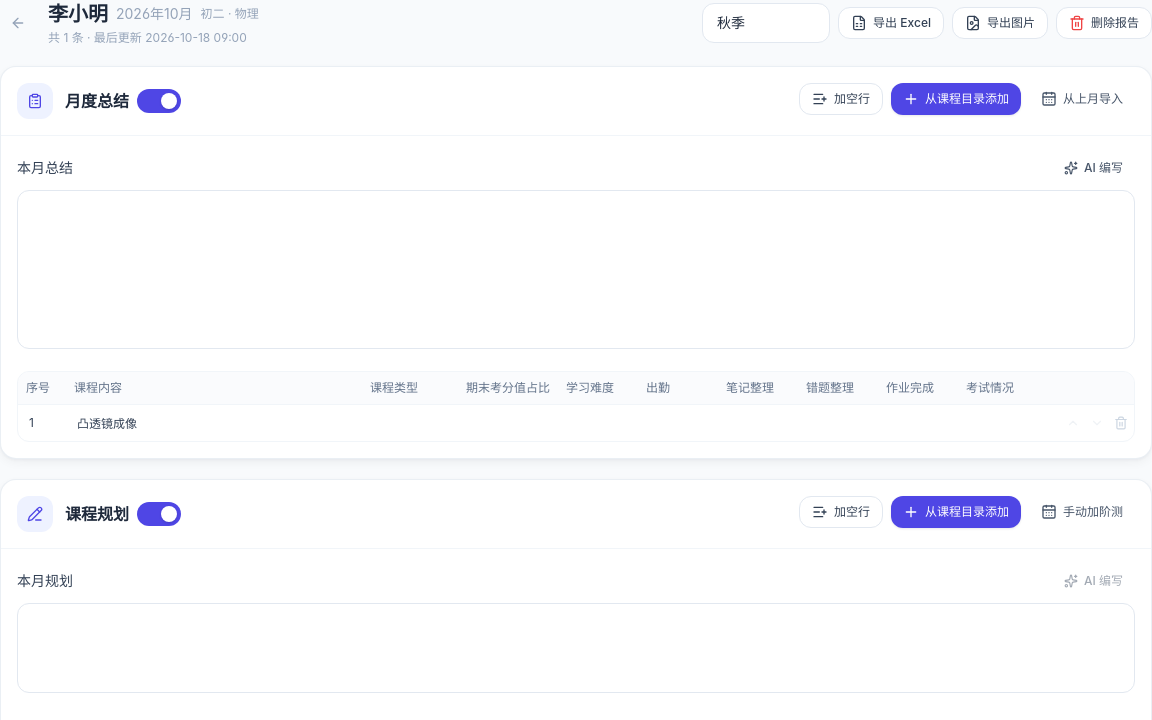
Test: 月度报告编辑器 › 关闭总结面板会提交 summaryEnabled=false，并隐藏表格
This screenshot has width=1152, height=720.
Expected: the field showing "凸透镜成像" is shown, [68,406,360,438]
Step 1. Click the 1st switch → click(159, 101), box [137,89,181,113]
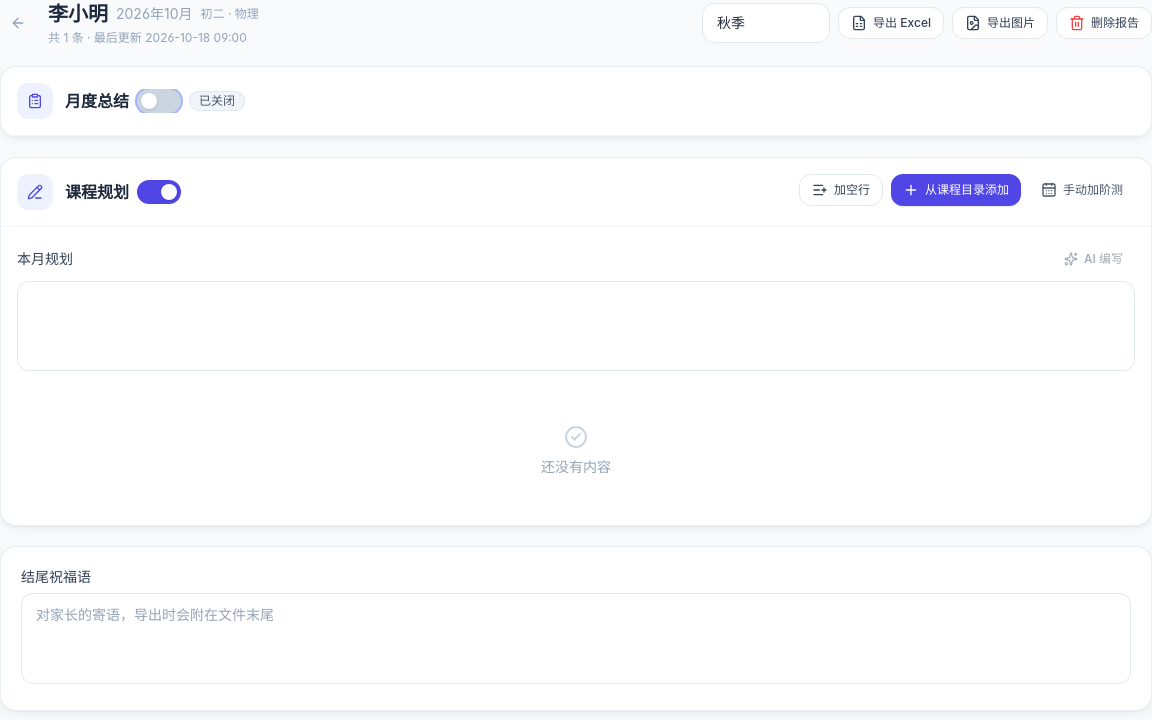
Expected: the text "已关闭" is shown, [189,91,245,111]
